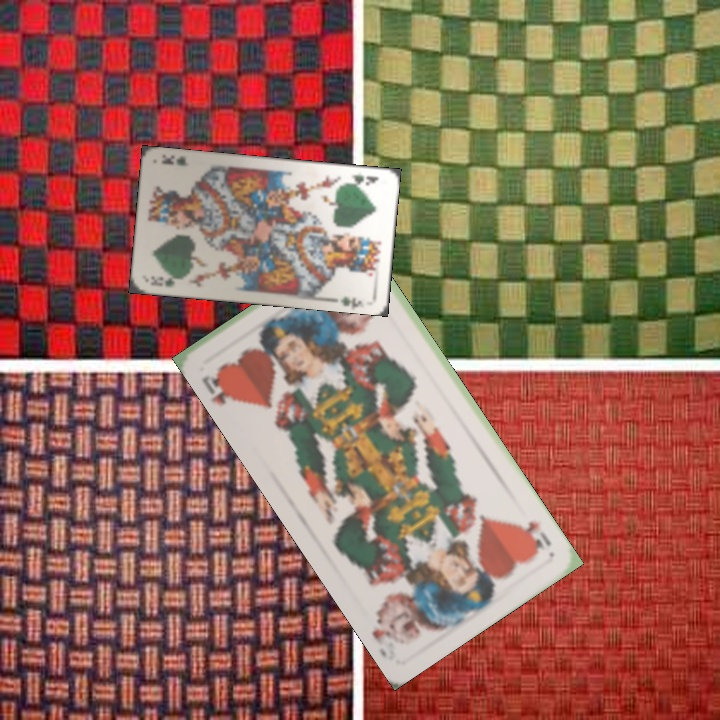GK: (343, 170, 381, 188), (146, 272, 177, 289)
HO: (198, 365, 242, 407), (522, 516, 554, 555)
